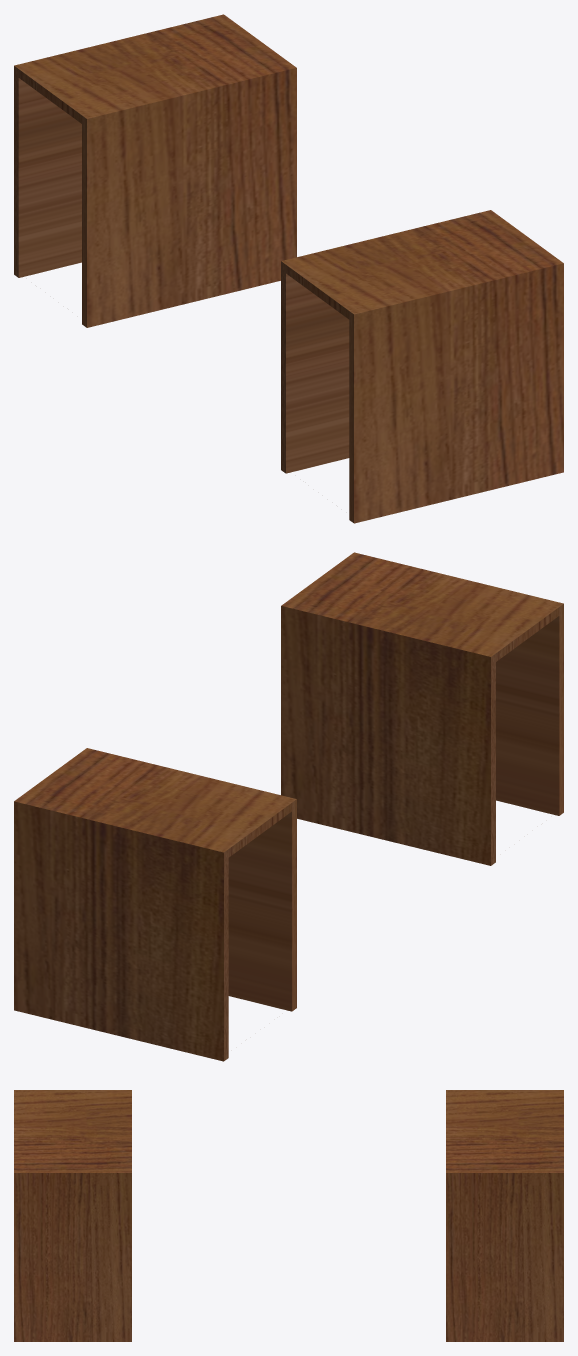
File: MuebleEscritorio.obj
The picture shows the model from 3 angles, top to bottom: view 1: azimuth 30°, elevation 25°; view 2: azimuth 150°, elevation 25°; view 3: azimuth 270°, elevation 25°; orthographic projection. The views are drawn at different scales.
Visible parts, largest first — view 1: Mueble.002; view 2: Mueble.002; view 3: Mueble.002.
Part boxes in pixels (x1,y1,x2,y2): Mueble.002: (14,14,563,523); Mueble.002: (14,552,563,1061); Mueble.002: (14,1090,563,1341).
Size of the model in its own units: 2.69 by 2.56 by 7.56.
